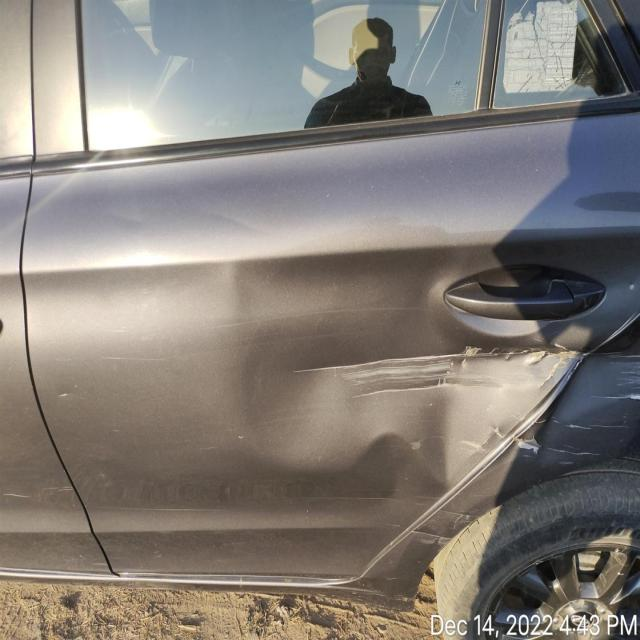damage: (215, 252, 572, 527), (511, 321, 640, 472)
